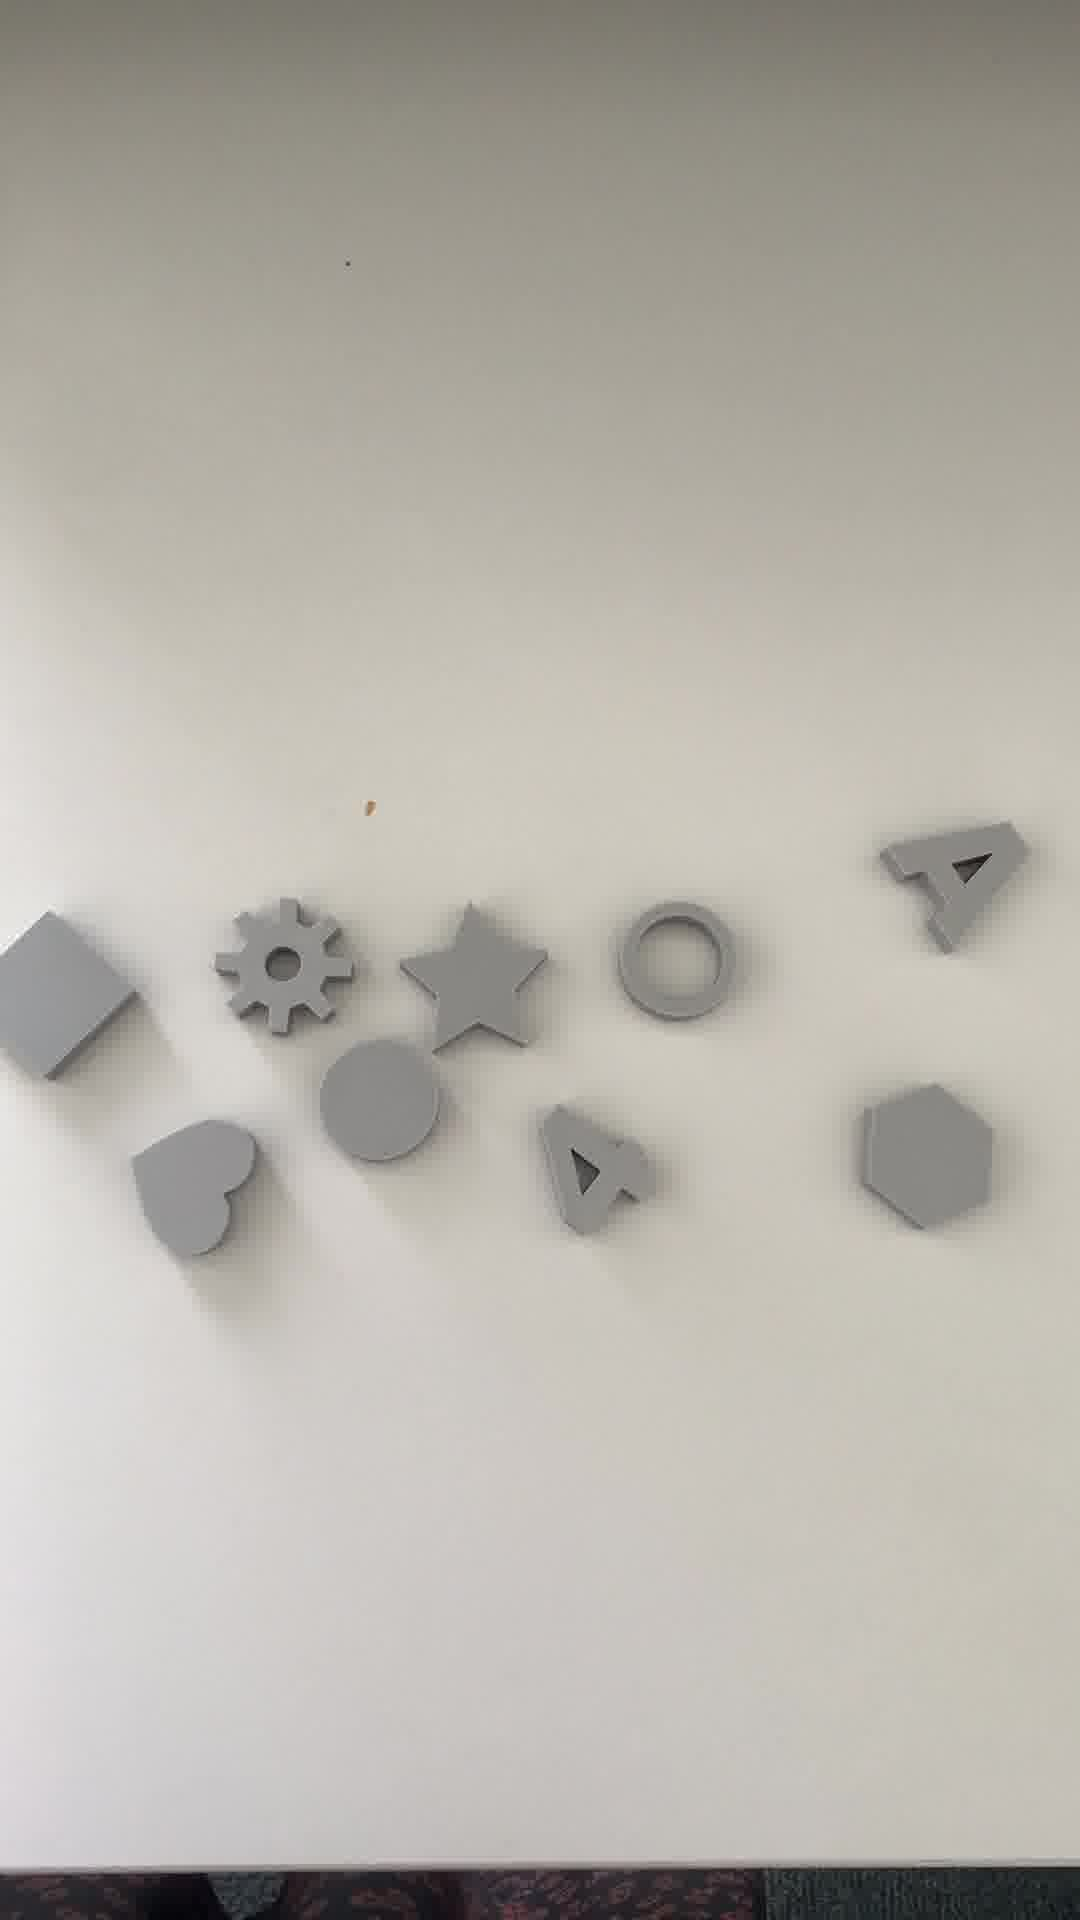Gray A-letter: (886, 808, 1035, 953)
Gray circle: (313, 1046, 448, 1175)
Gray four: (531, 1102, 674, 1244)
Gray gear: (207, 901, 363, 1048)
Gray heart: (127, 1114, 264, 1261)
Gray hexagon: (847, 1071, 1011, 1244)
Gray ring: (622, 901, 737, 1038)
Gray square: (1, 914, 138, 1087)
Gray star: (404, 910, 551, 1062)
